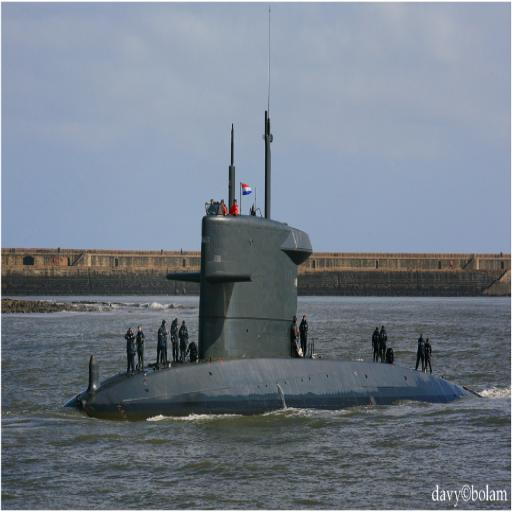submarine: (90, 95, 493, 403)
